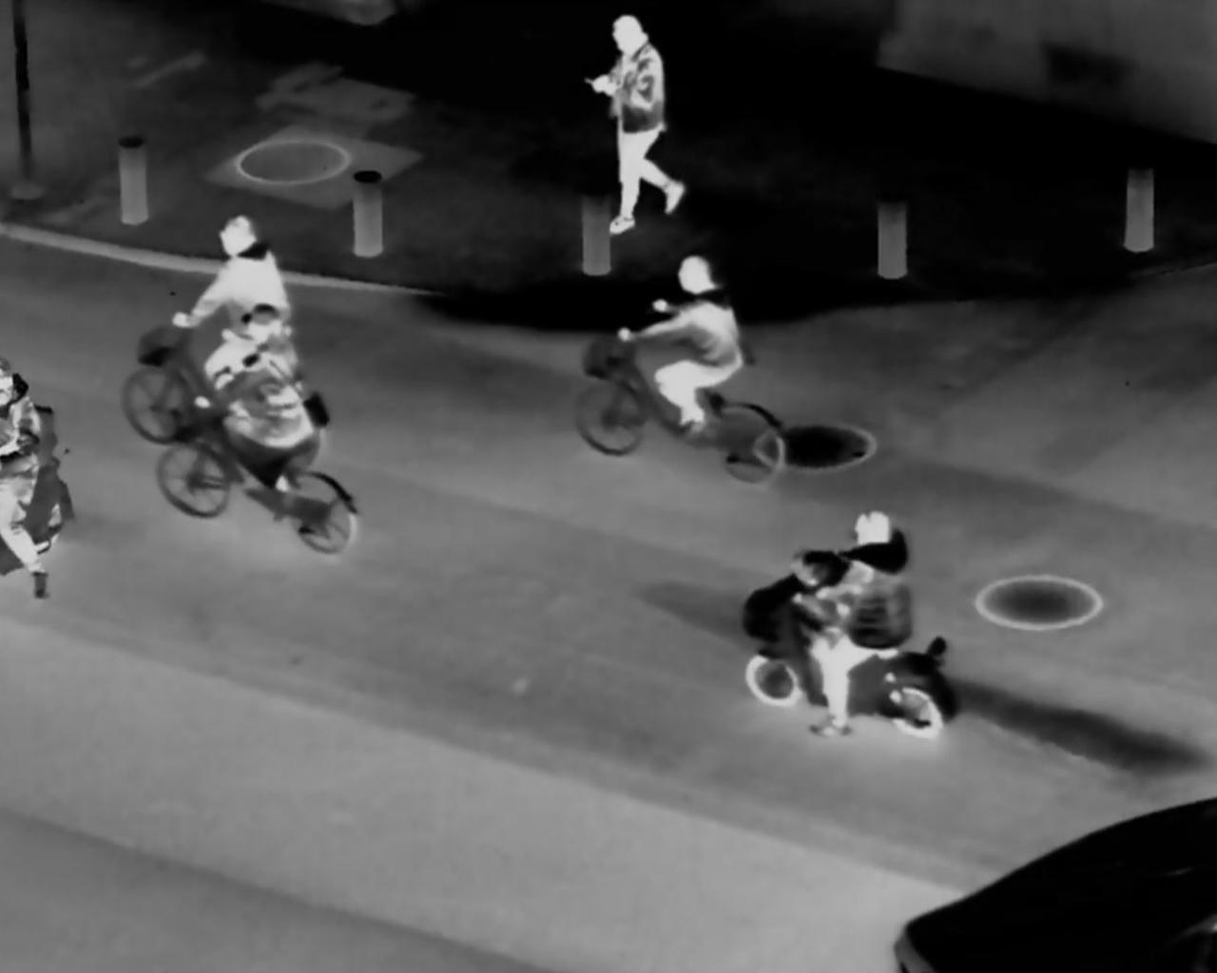person: (790, 495, 918, 742), (621, 250, 749, 448), (582, 10, 689, 233), (209, 306, 319, 493), (177, 214, 299, 341)
